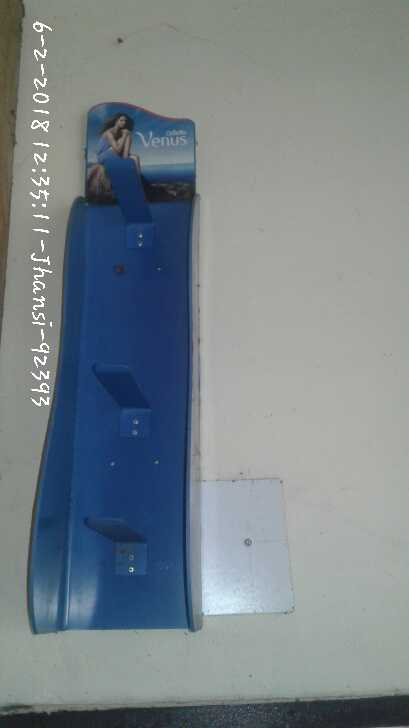reject: (114, 265, 203, 348)
